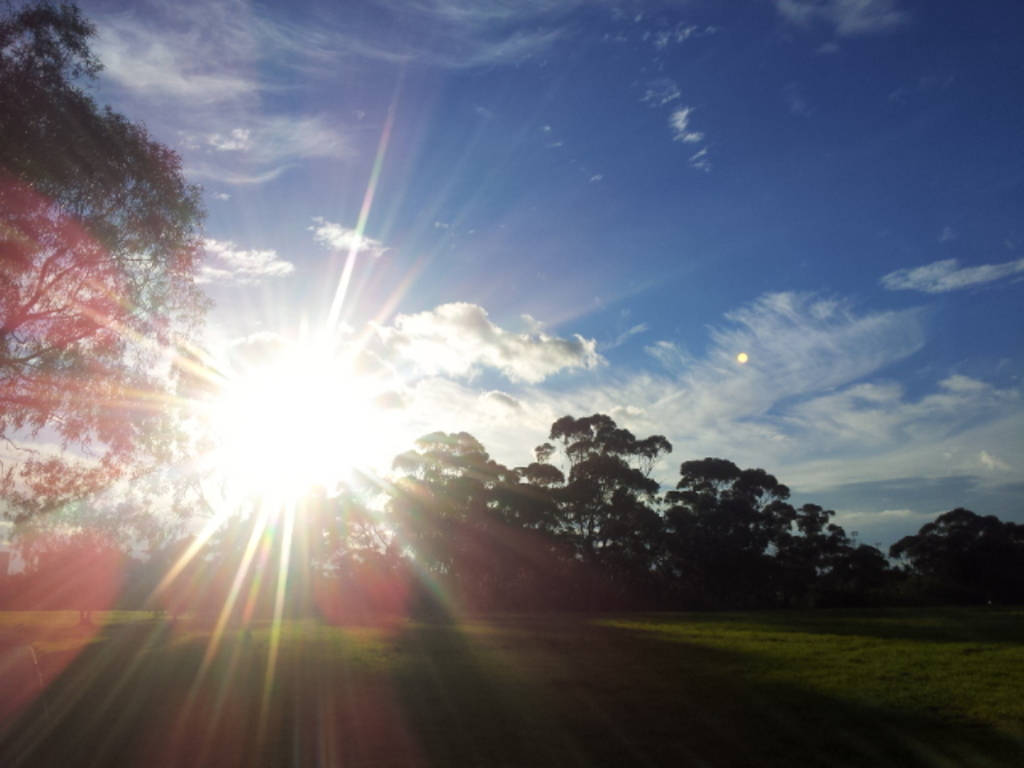Tree: (231, 414, 1022, 638), (12, 38, 236, 651)
